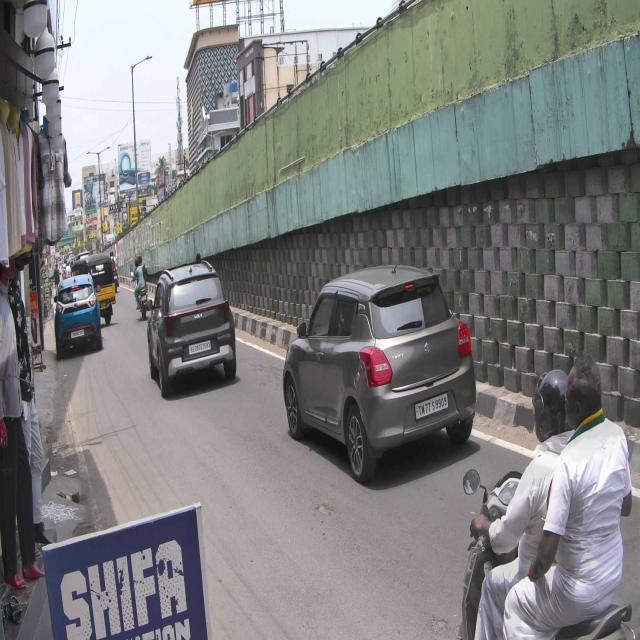double_rider: (458, 356, 640, 640)
